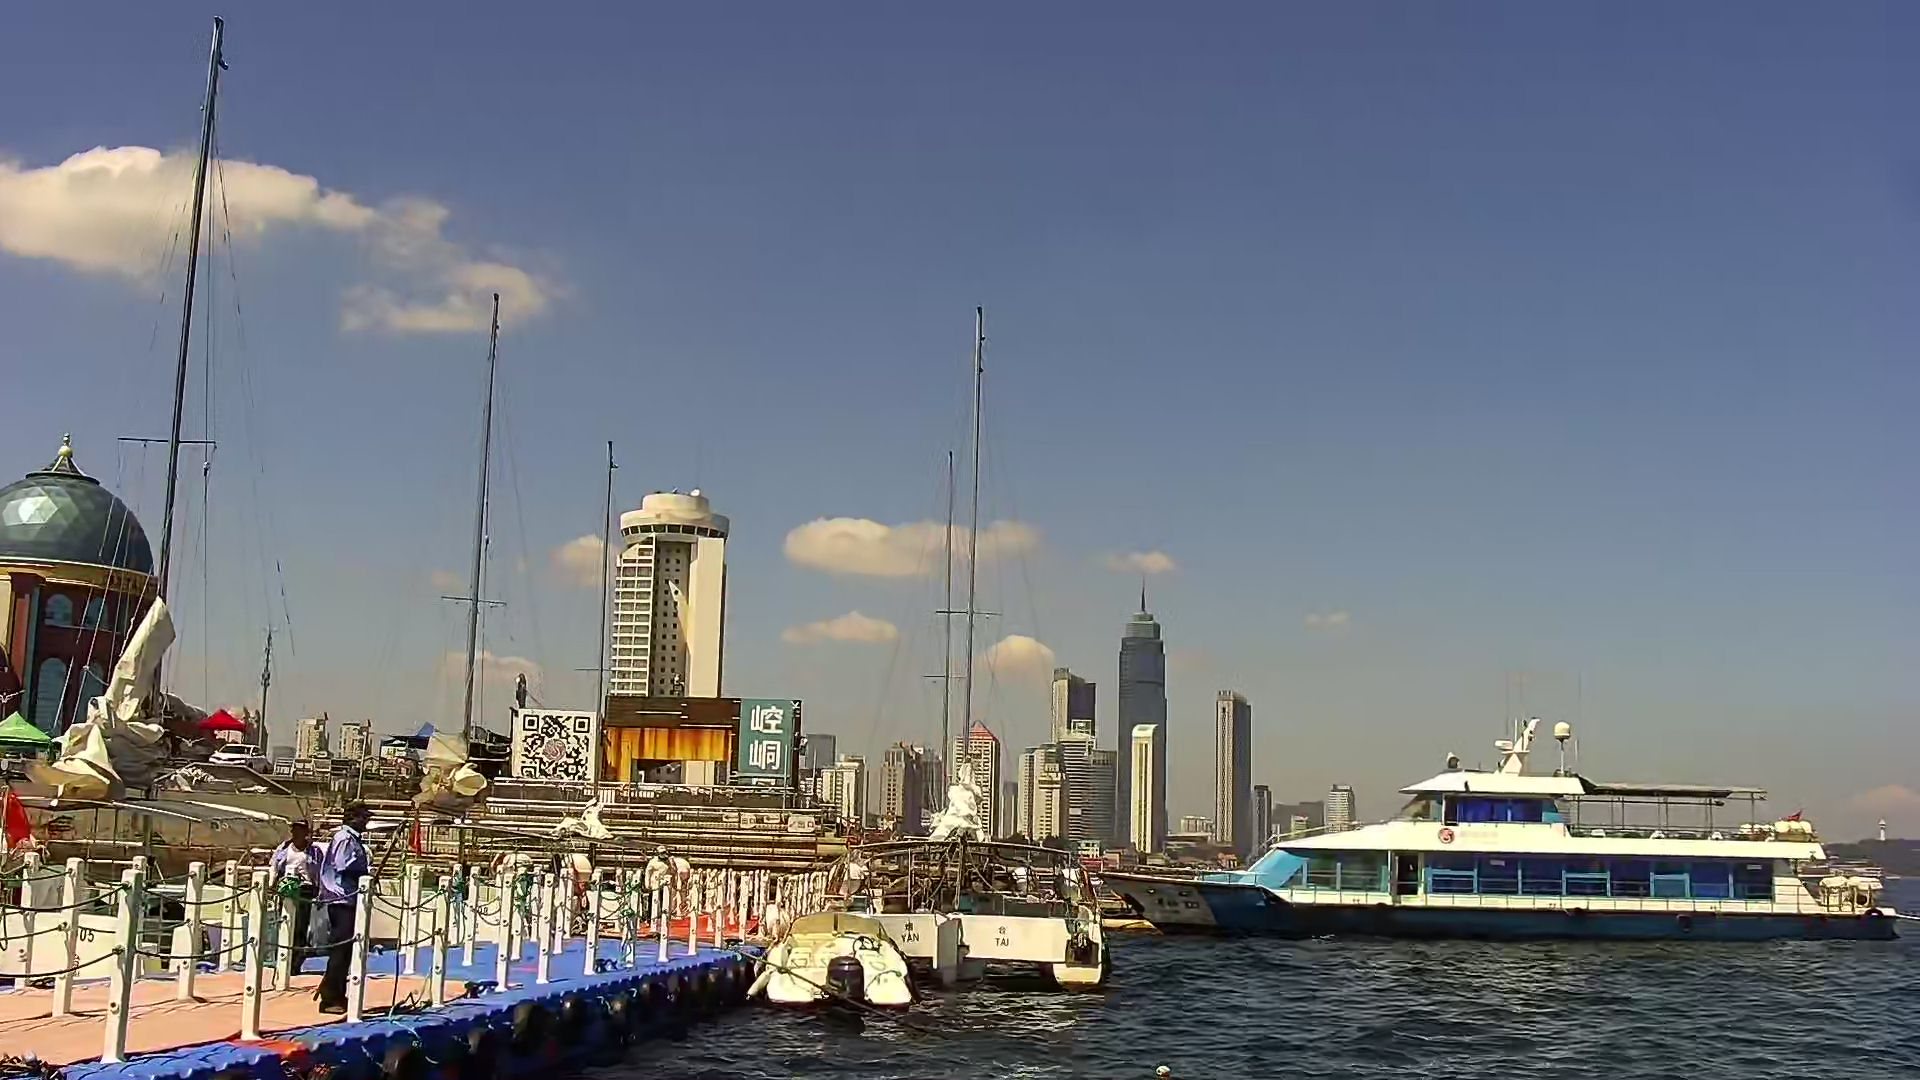boat: (1, 3, 270, 975), (767, 287, 1133, 980), (764, 902, 913, 1018)
harbor: (3, 853, 757, 1073)
ship: (1113, 708, 1917, 947)
